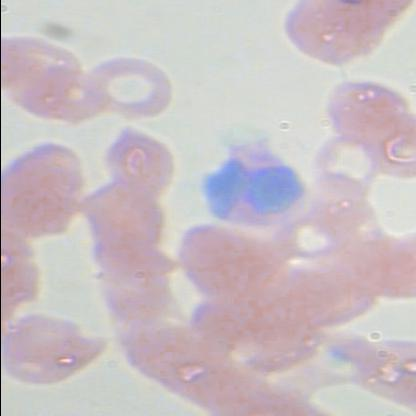RBC: (1, 309, 110, 393), (1, 136, 86, 239), (74, 180, 172, 256), (280, 0, 384, 70), (0, 60, 102, 130), (170, 224, 256, 300), (86, 48, 172, 123), (94, 122, 178, 192), (318, 78, 402, 148), (304, 132, 376, 200), (270, 210, 346, 264)
WBC: (200, 136, 309, 230)
